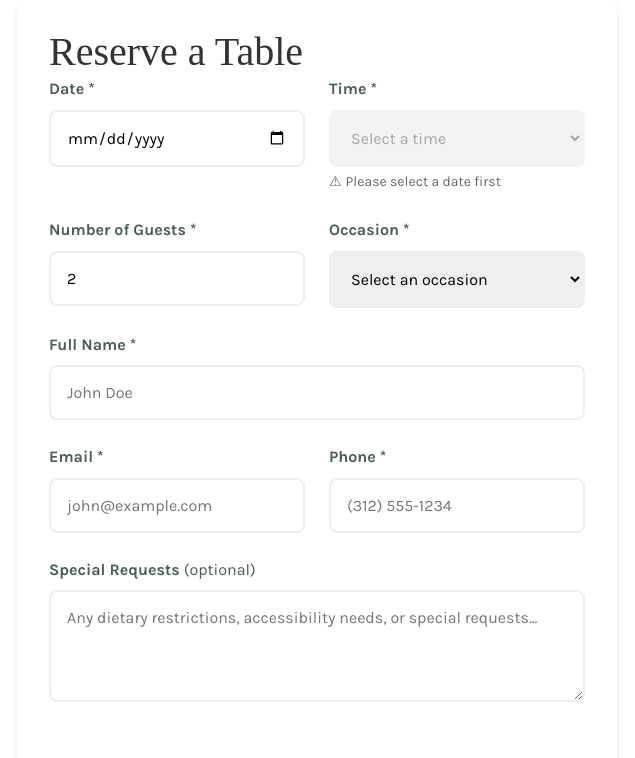
BookingForm Component › Validation › shows error when name is too short
Type "A" into the field labelled "Full Name *" at x=317, y=393, box [49,365,585,420]
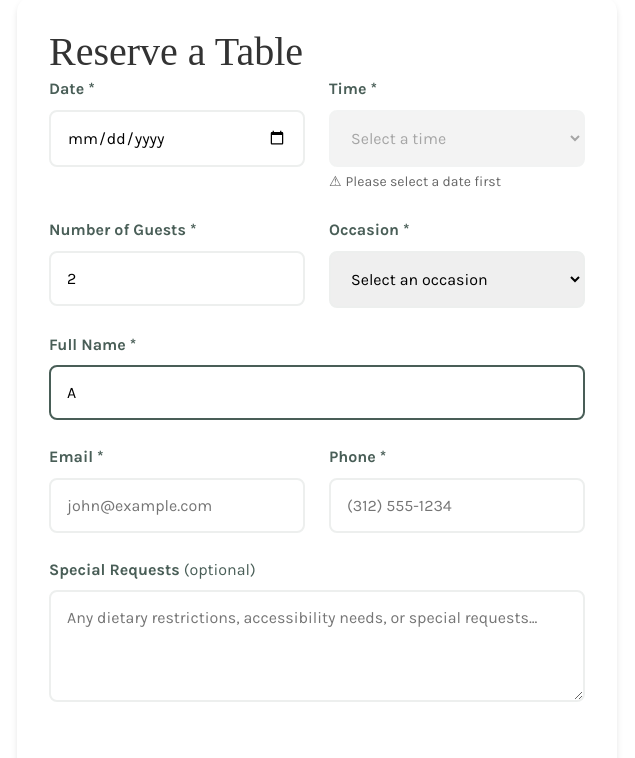
Leave the field labelled "Full Name *", box [49,365,585,420]
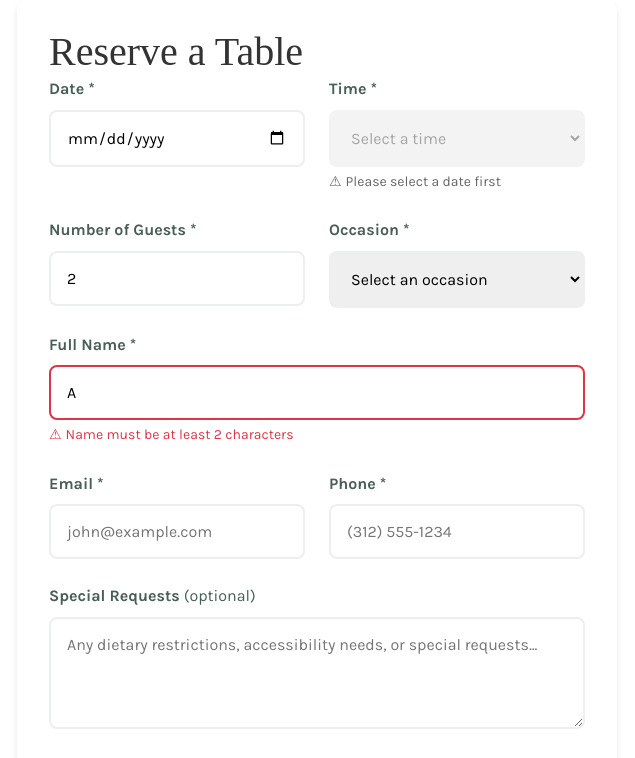
Result: the text "Name must be at least 2 characters" is shown at [66,426,294,443]
